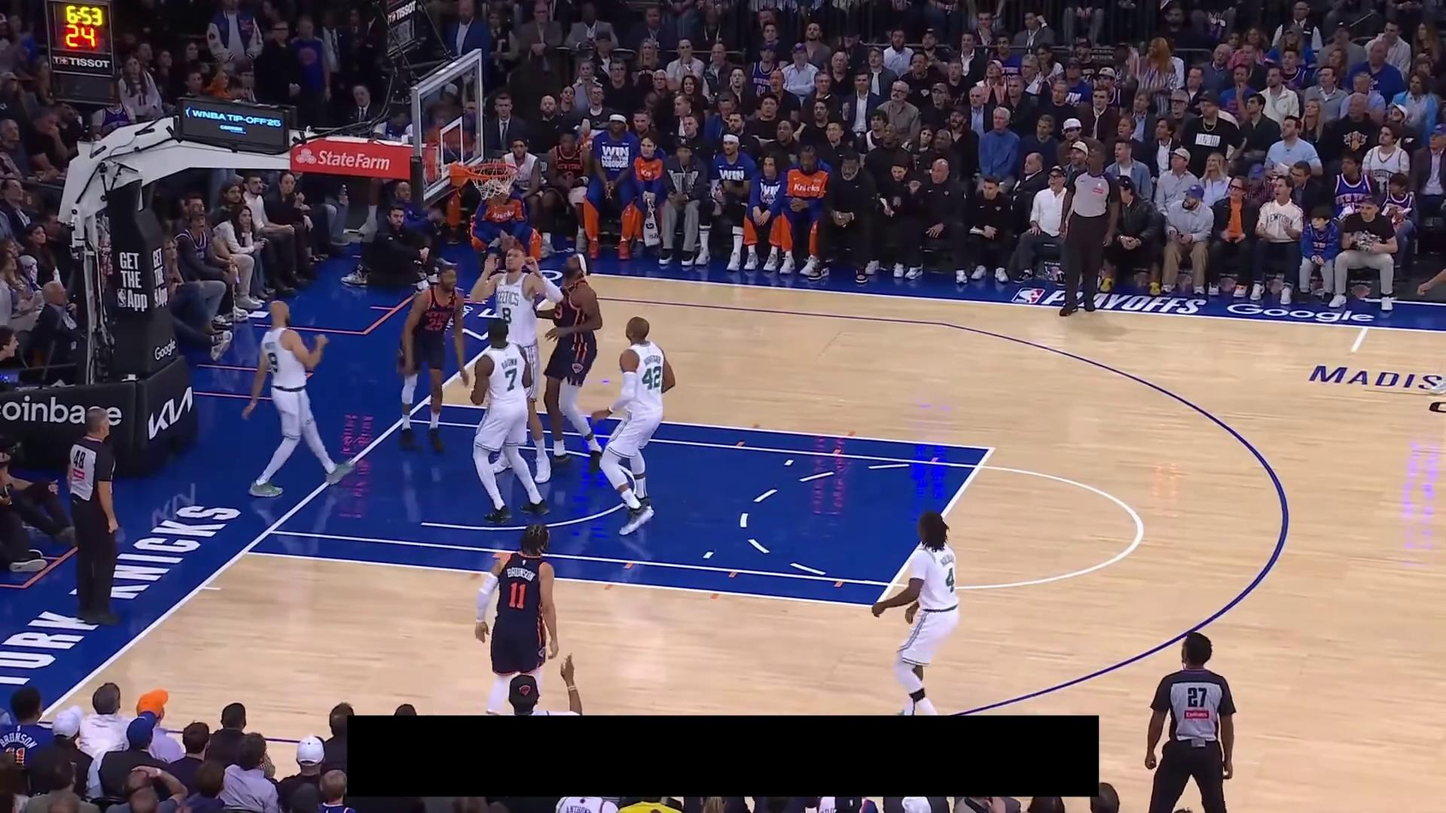ball-in-basket: (467, 160, 520, 206)
number: (508, 580, 527, 611), (642, 366, 661, 391), (944, 567, 956, 594), (505, 367, 518, 391), (426, 316, 444, 332), (267, 352, 279, 375), (500, 306, 513, 324)
player: (239, 297, 356, 500), (469, 246, 562, 484), (871, 508, 963, 716), (590, 315, 676, 537), (473, 520, 561, 714), (470, 318, 552, 525), (533, 252, 603, 475), (395, 263, 468, 458), (1416, 219, 1446, 411)
player-in-possession: (486, 182, 509, 205)
referee: (1144, 631, 1237, 813), (65, 406, 124, 625), (1058, 145, 1121, 317)
rim: (466, 161, 519, 179)
